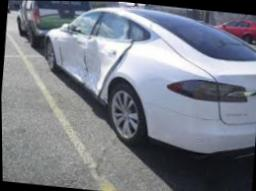Door: (81, 11, 132, 95)
